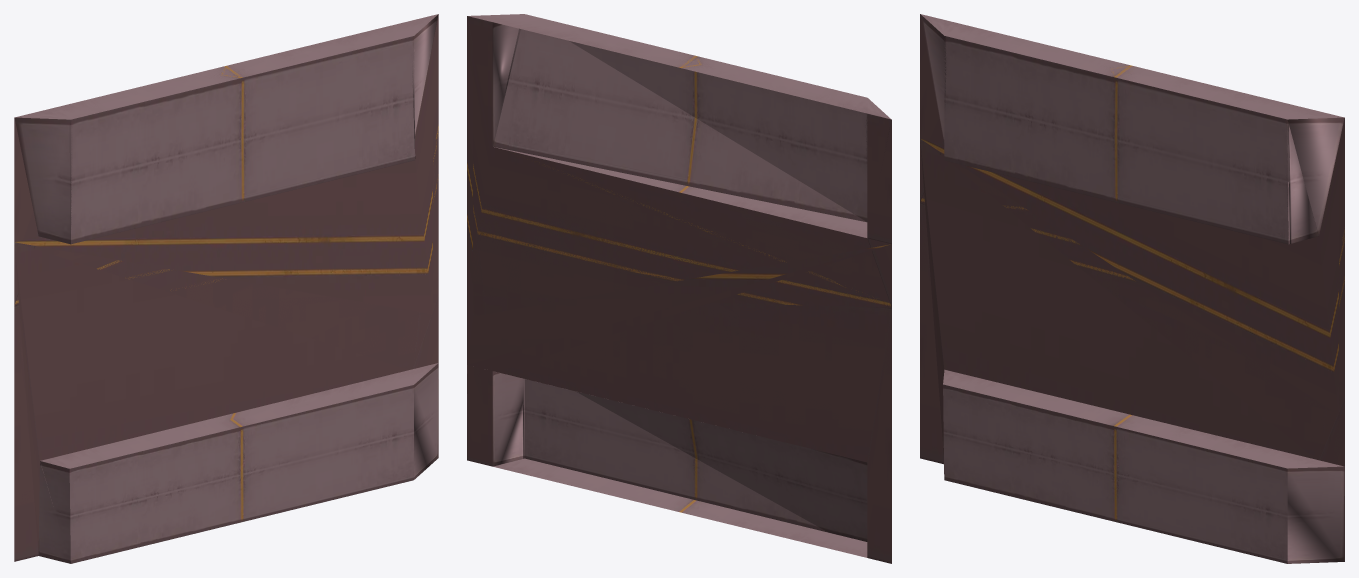
The picture shows the model from 3 angles, left to right: view 1: azimuth 30°, elevation 25°; view 2: azimuth 150°, elevation 25°; view 3: azimuth 330°, elevation 25°; orthographic projection.
Parts seen in each view (by area): view 1: sm_cb03_09_00; view 2: sm_cb03_09_00; view 3: sm_cb03_09_00.
Boxes of the visible parts, x1,y1,x2,y2 form: sm_cb03_09_00: (14, 14, 438, 563); sm_cb03_09_00: (467, 14, 891, 563); sm_cb03_09_00: (920, 14, 1344, 563).
Bounding box in the file's own units: 3 × 3 × 0.2007.
Materials: 1 (1 with a texture image).
